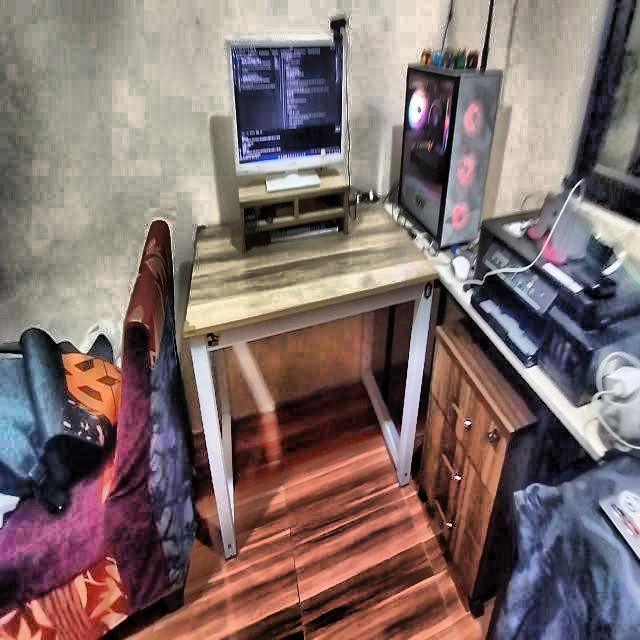mesa: (188, 188, 440, 552)
